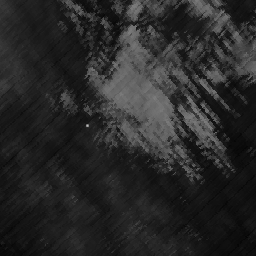Target: (84, 122, 90, 129)
